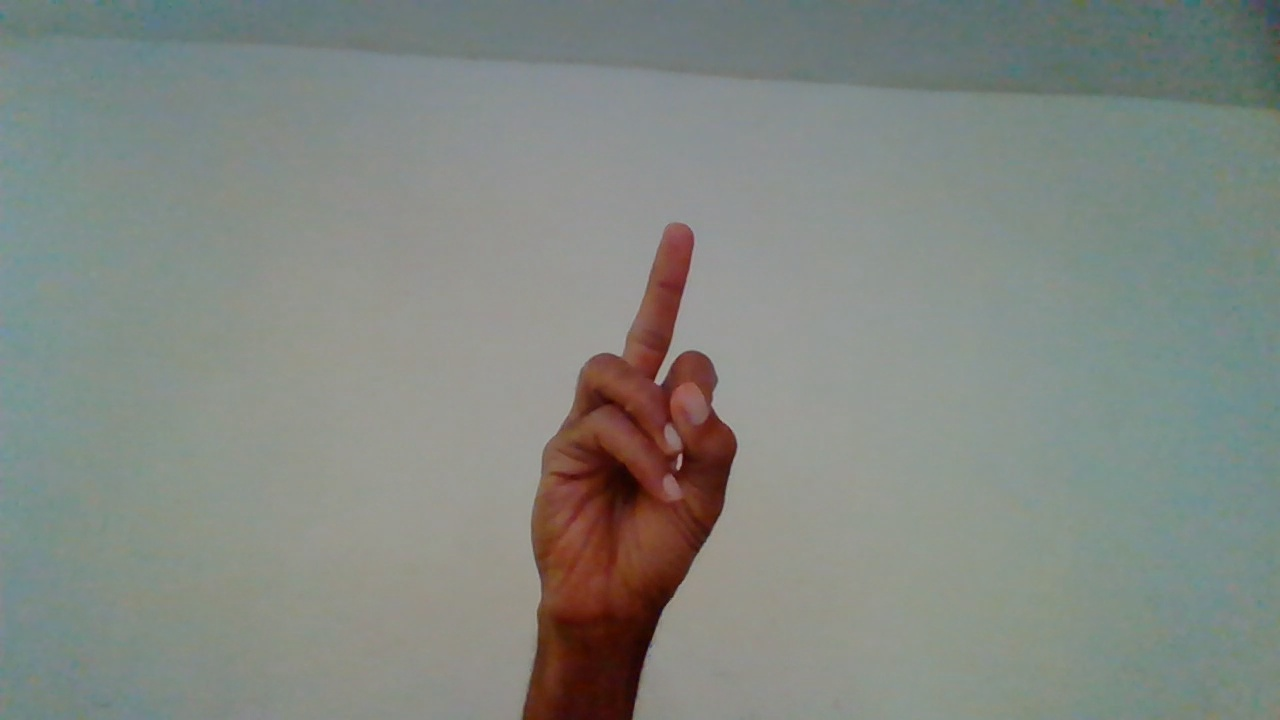he: (525, 211, 741, 720)
